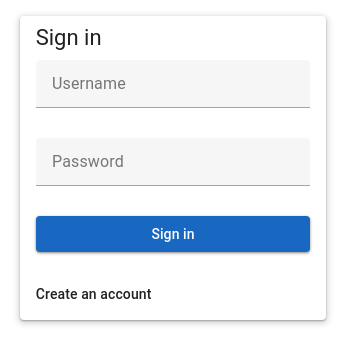
Test case: Feature 1 — User Authentication & Session Management › US-1.2 — Sign in › User signs in with missing password
The width and height of the screenshot is (347, 343).
Step 1. Type "jdoe" into the field labelled "Username" → (173, 84), box left=36, top=60, right=310, bottom=108
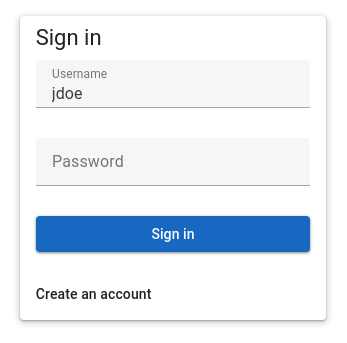
Step 2. Submit the form, box left=36, top=60, right=310, bottom=252
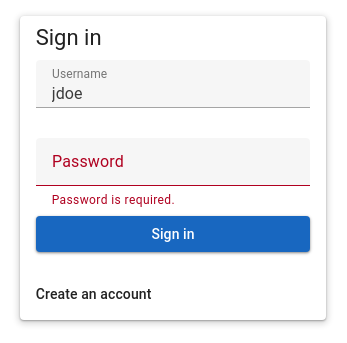
Check: the text "Password is required." is shown, box left=52, top=193, right=175, bottom=207
